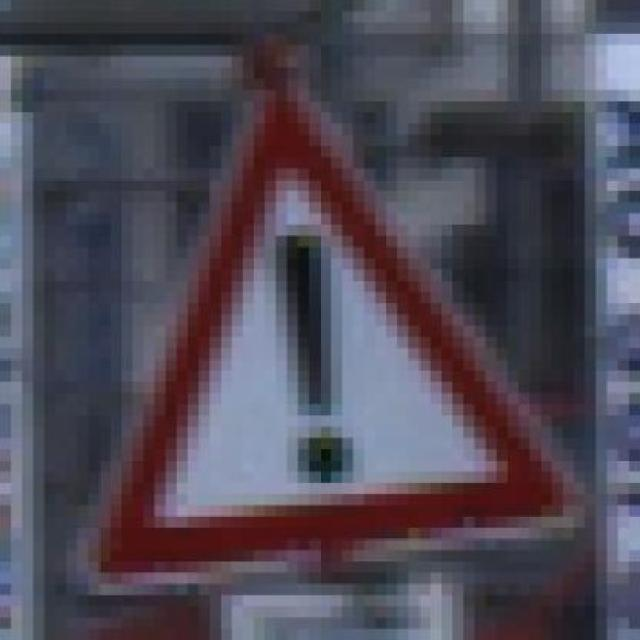Attention Please-: (77, 68, 585, 595)
